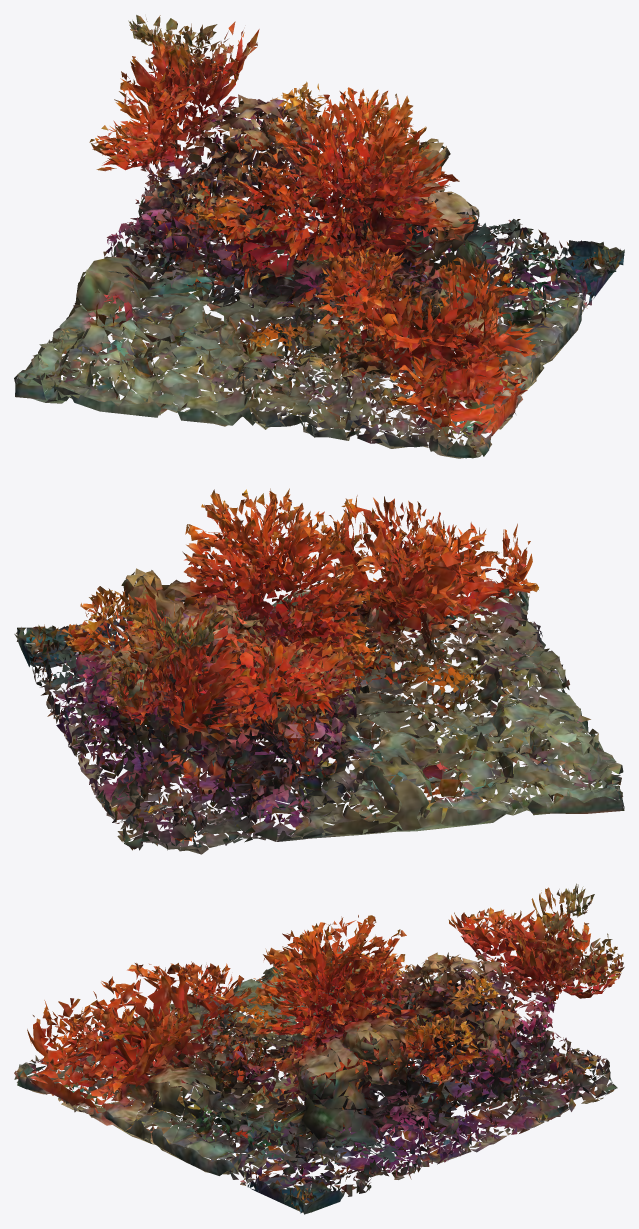
Rendered from coral-aurora.glb.
3 renders of one model, top to bottom at view 1: azimuth 30°, elevation 25°; view 2: azimuth 150°, elevation 25°; view 3: azimuth 270°, elevation 25°, orthographic. The views are drawn at different scales.
Visible parts, largest first — view 1: Mesh_0; view 2: Mesh_0; view 3: Mesh_0.
Boxes of the visible parts, x1,y1,x2,y2 form: Mesh_0: [14, 15, 624, 458]; Mesh_0: [14, 488, 624, 854]; Mesh_0: [14, 883, 624, 1214].
Size of the model in its own units: 2.36 by 0.8298 by 2.39.
1 material, 1 textured.
